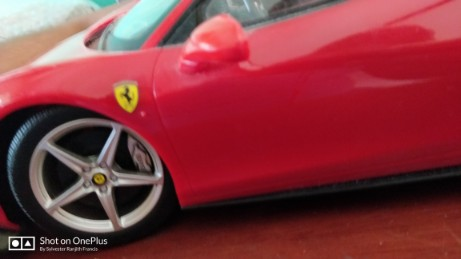unaligned_wheel: (7, 115, 188, 250)
